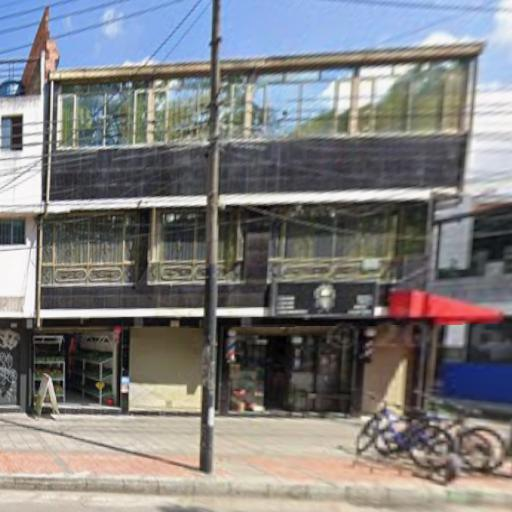poste: (197, 0, 227, 479)
